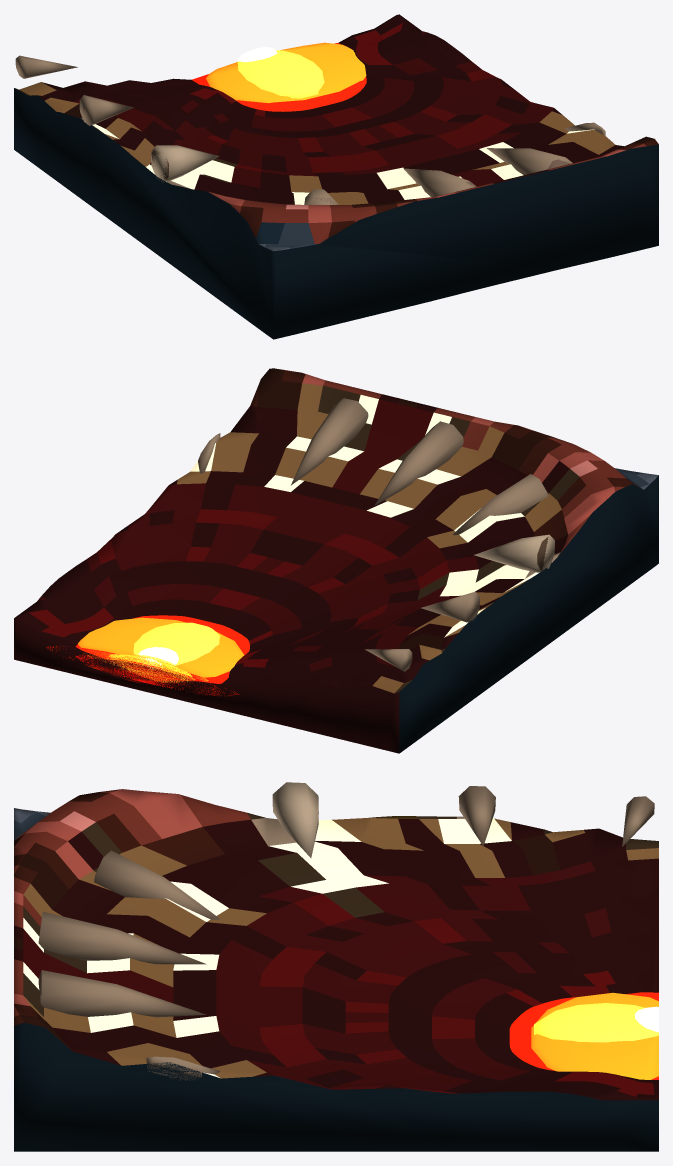
File: newshn-157.glb
3 renders of one model, top to bottom at view 1: azimuth 30°, elevation 25°; view 2: azimuth 150°, elevation 25°; view 3: azimuth 270°, elevation 25°, orthographic. The views are drawn at different scales.
Parts seen in each view (by area): view 1: newshn-157, newshn-157-f279, newshn-157-f157; view 2: newshn-157, newshn-157-f157, newshn-157-f279, newshn-157-f271, newshn-157-f275, newshn-157-f267; view 3: newshn-157, newshn-157-f157, newshn-157-f279.
Boxes of the visible parts, x1,y1,x2,y2 form: newshn-157: (14, 14, 658, 339); newshn-157-f279: (151, 42, 366, 204); newshn-157-f157: (15, 55, 605, 204); newshn-157: (14, 368, 658, 753); newshn-157-f157: (198, 398, 554, 671); newshn-157-f279: (46, 536, 548, 695); newshn-157-f271: (85, 595, 477, 695); newshn-157-f275: (75, 603, 475, 695); newshn-157-f267: (114, 653, 410, 688); newshn-157: (14, 789, 658, 1151); newshn-157-f157: (38, 782, 654, 1080); newshn-157-f279: (509, 992, 658, 1079).
Bounding box in the file's own units: 2 × 0.542 × 2.33.
